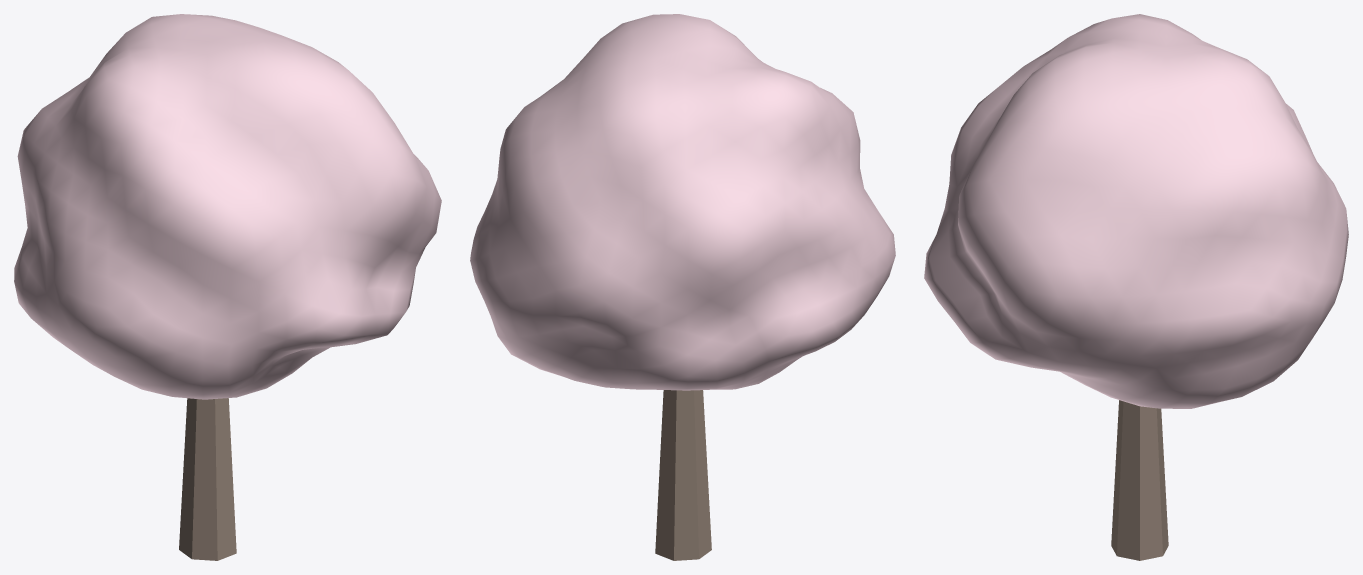
File: tree-blossom-b.glb
The picture shows the model from 3 angles, left to right: view 1: azimuth 30°, elevation 25°; view 2: azimuth 150°, elevation 25°; view 3: azimuth 270°, elevation 25°; orthographic projection.
Visible parts, largest first — view 1: tree-blossom-b; view 2: tree-blossom-b; view 3: tree-blossom-b.
Part boxes in pixels (x1,y1,x2,y2): tree-blossom-b: (14, 14, 441, 560); tree-blossom-b: (470, 14, 895, 560); tree-blossom-b: (924, 14, 1348, 560).
Bounding box in the file's own units: 0.7373 × 1 × 0.766.
